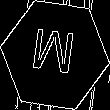M_S: (30, 27, 80, 83)
